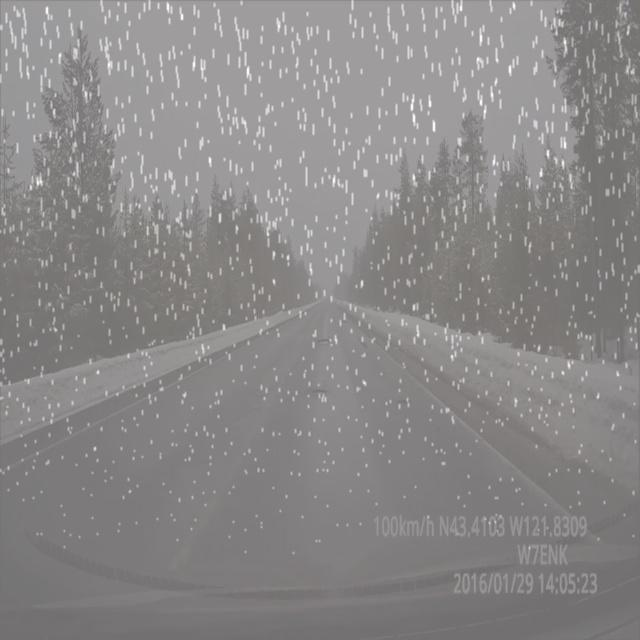Pothole: (312, 336, 330, 352), (310, 384, 328, 395)
